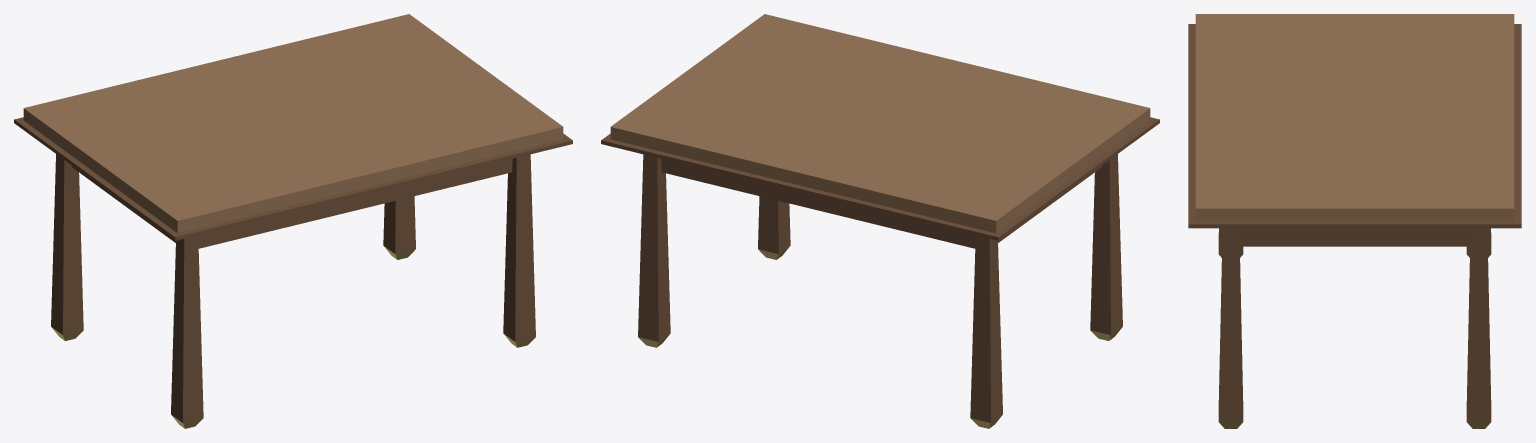
The model's file is table.glb.
The picture shows the model from 3 angles, left to right: view 1: azimuth 30°, elevation 25°; view 2: azimuth 150°, elevation 25°; view 3: azimuth 270°, elevation 25°; orthographic projection. The views are drawn at different scales.
Visible parts, largest first — view 1: Table; view 2: Table; view 3: Table.
Boxes of the visible parts, bbox=[...] form: Table: bbox=[14, 14, 572, 428]; Table: bbox=[601, 14, 1159, 428]; Table: bbox=[1188, 14, 1521, 428].
Bounding box in the file's own units: 1.34 × 0.72 × 0.94.
